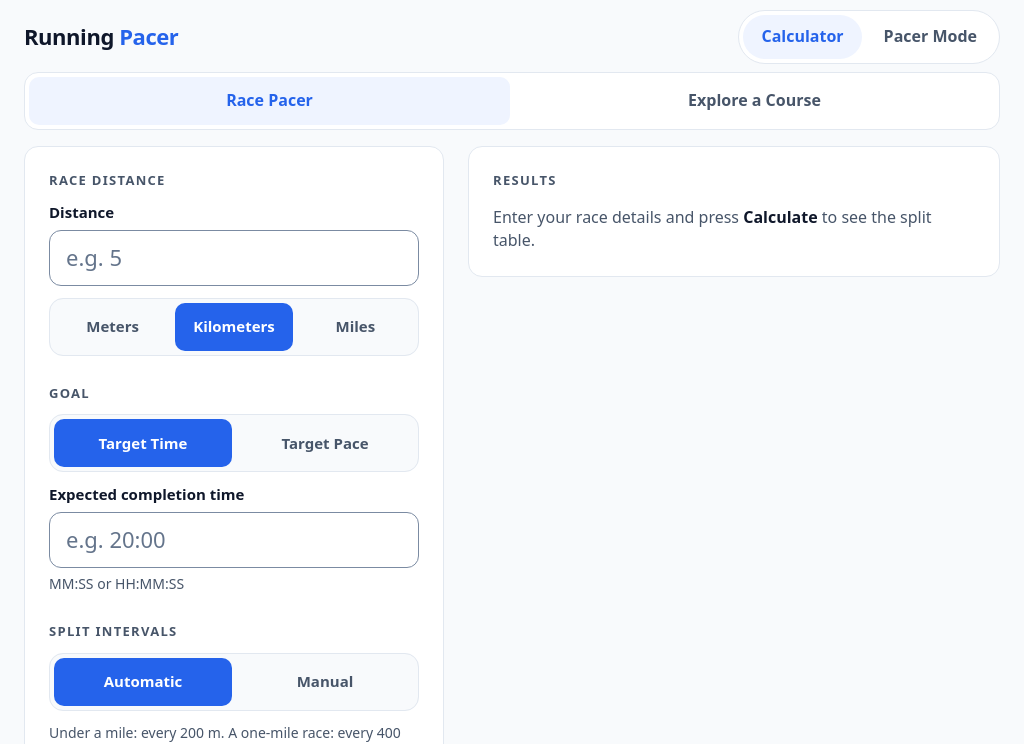
Test case: creating locations › adds a location at an arbitrary distance, with its target time calculated
In the field labelled "Distance": (234, 258) [49, 230, 419, 286], type "5"
In the field labelled "Expected completion time": (234, 540) [49, 512, 419, 568], type "20:00"
(page scrolled)
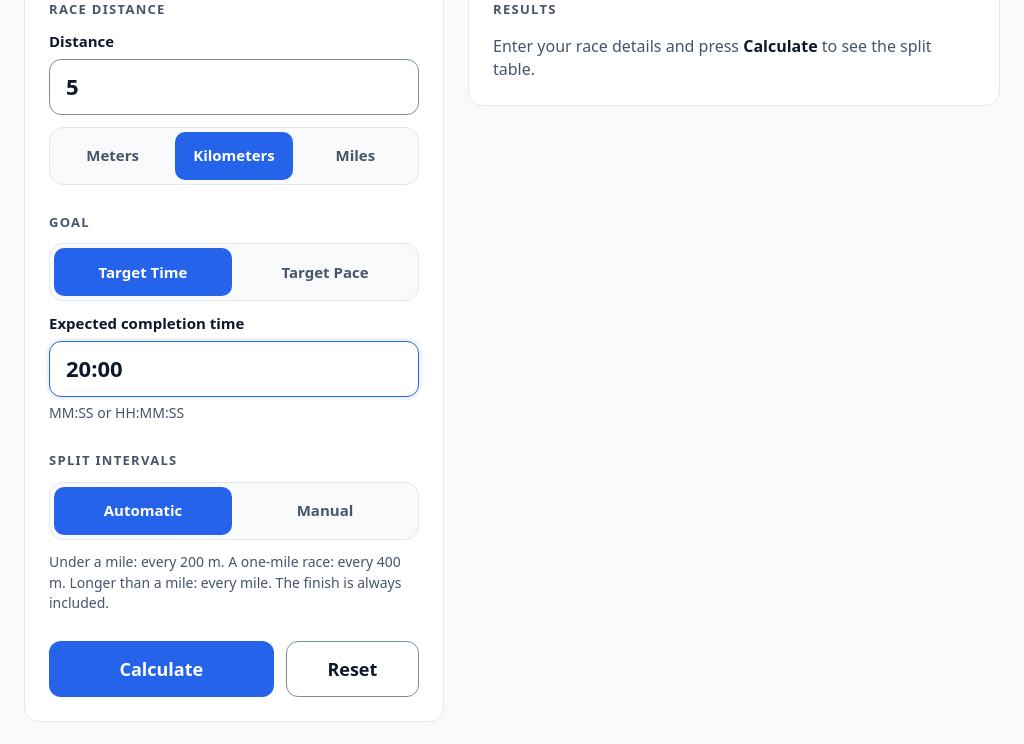
Click the button "Calculate": click(161, 669) [49, 641, 274, 697]
(page scrolled)
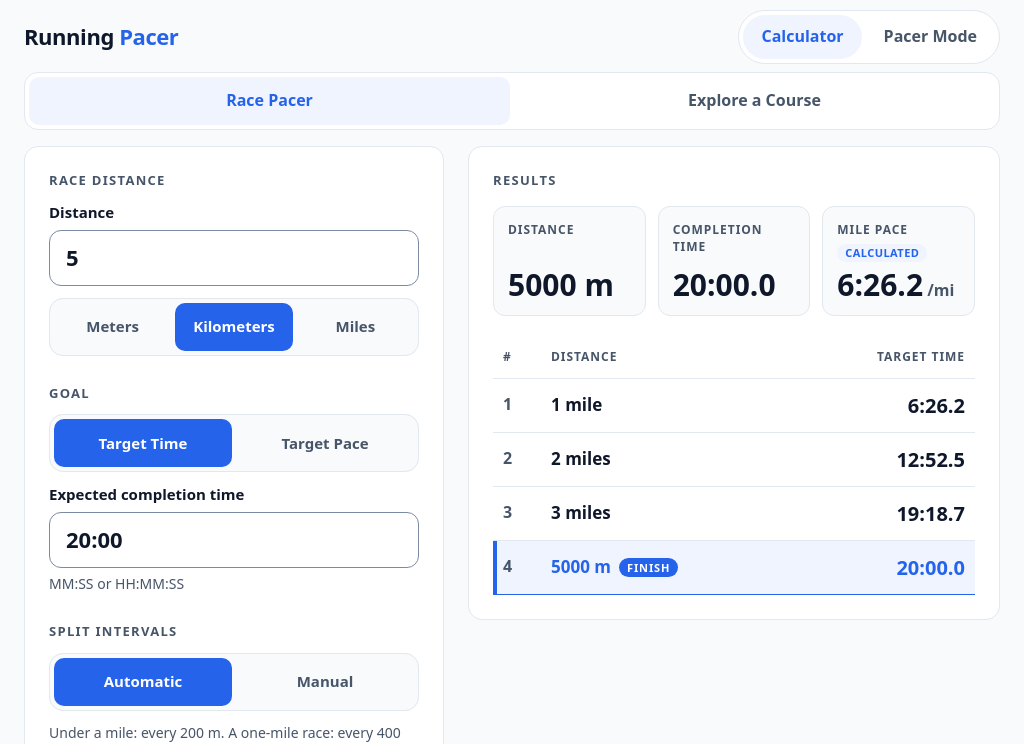
Click the button "Pacer Mode": click(930, 37) [866, 15, 995, 59]
(page scrolled)
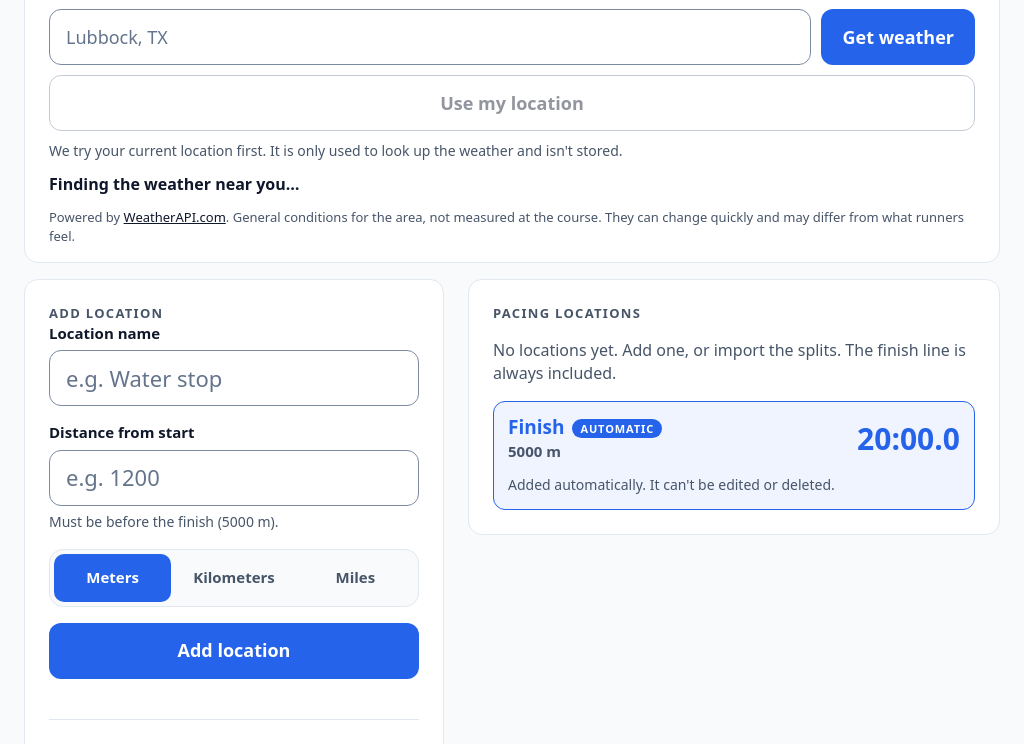
In the field labelled "Location name": (234, 378) [49, 350, 419, 406], type "Water stop"
In the field labelled "Distance from start": (234, 478) [49, 450, 419, 506], type "1.2"
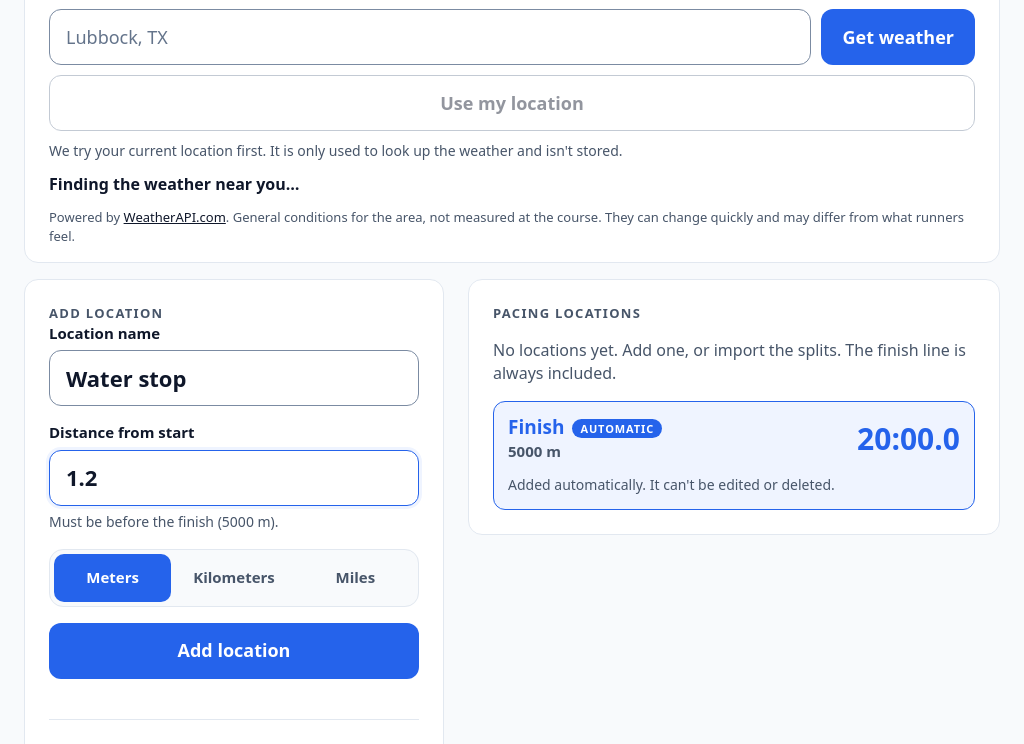
Click the radio button labelled "Kilometers": click(234, 577) [193, 567, 275, 587]
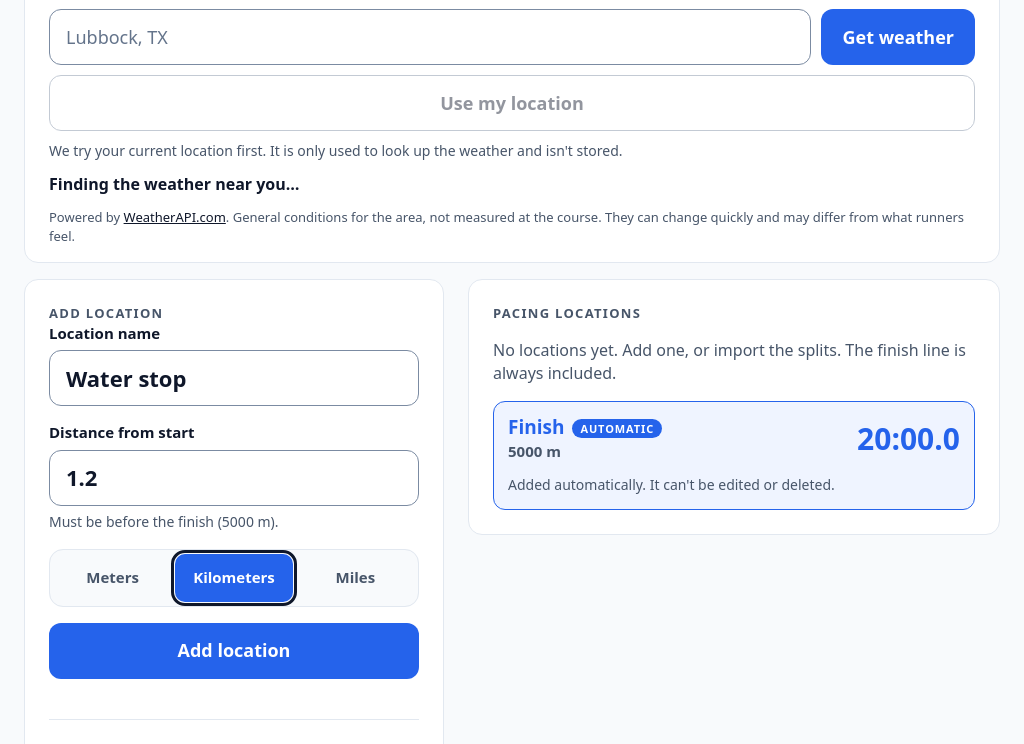
Click the button "Add location": click(234, 650) [49, 622, 419, 678]
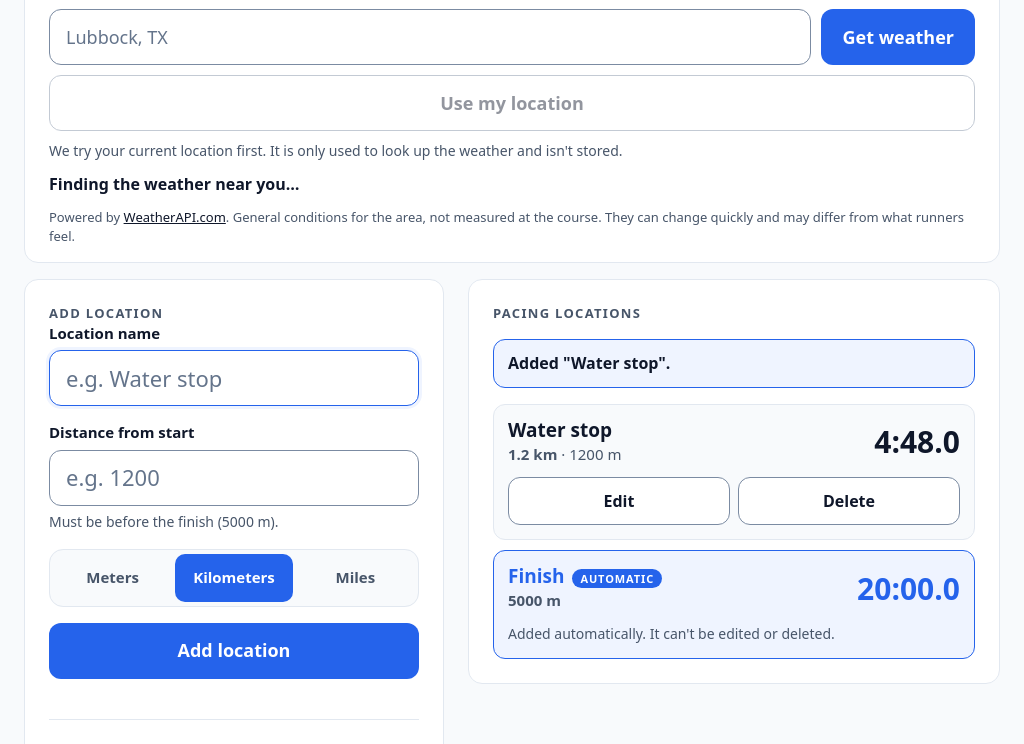
Check: the text "Added \"Water stop\"." is shown, box [493, 339, 975, 388]
